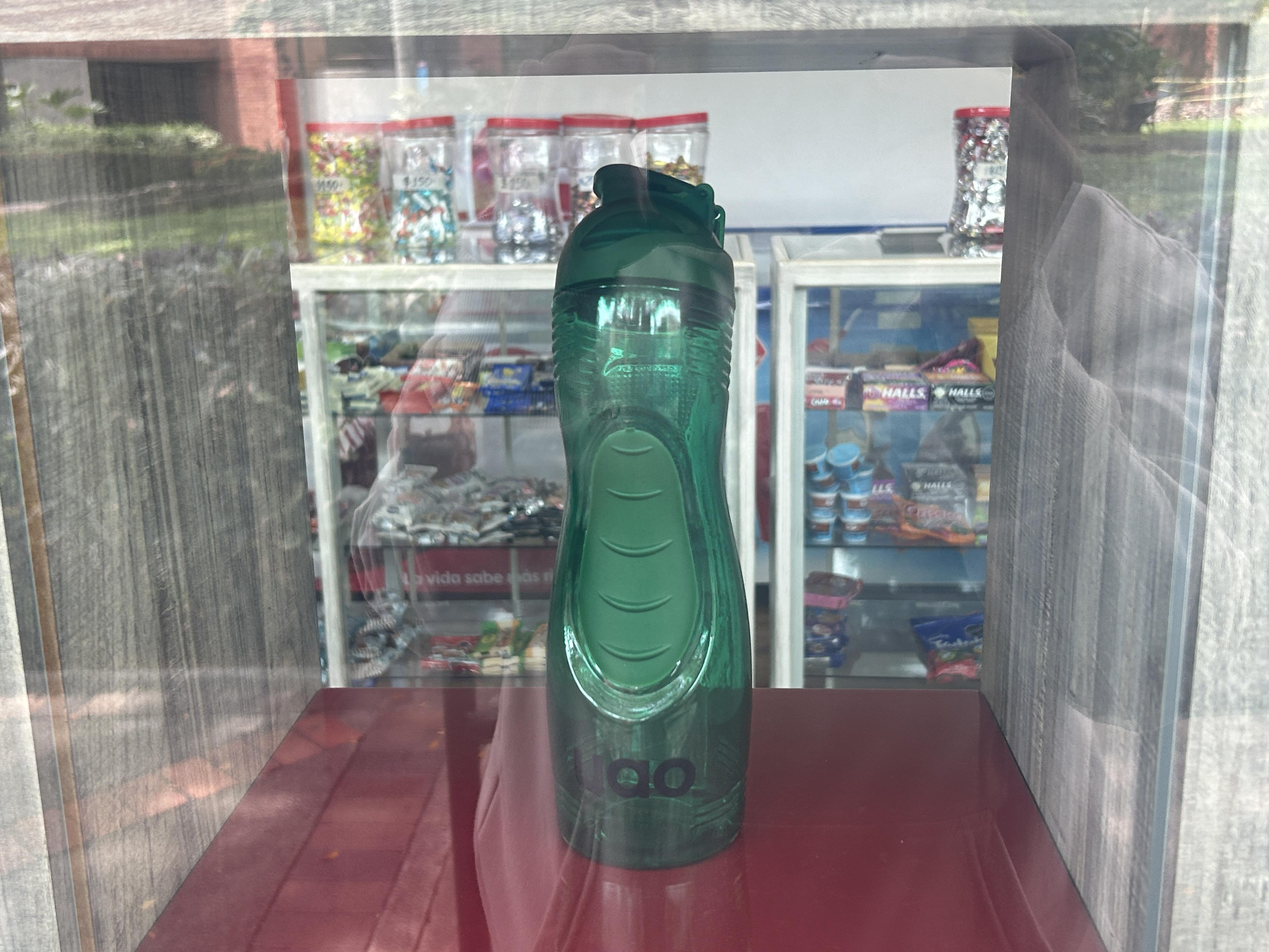termo: (546, 165, 751, 869)
